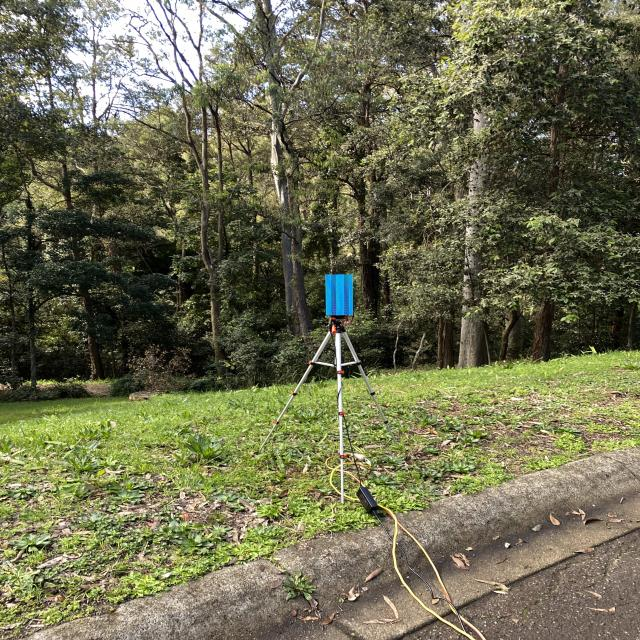matrix: (323, 272, 356, 317)
